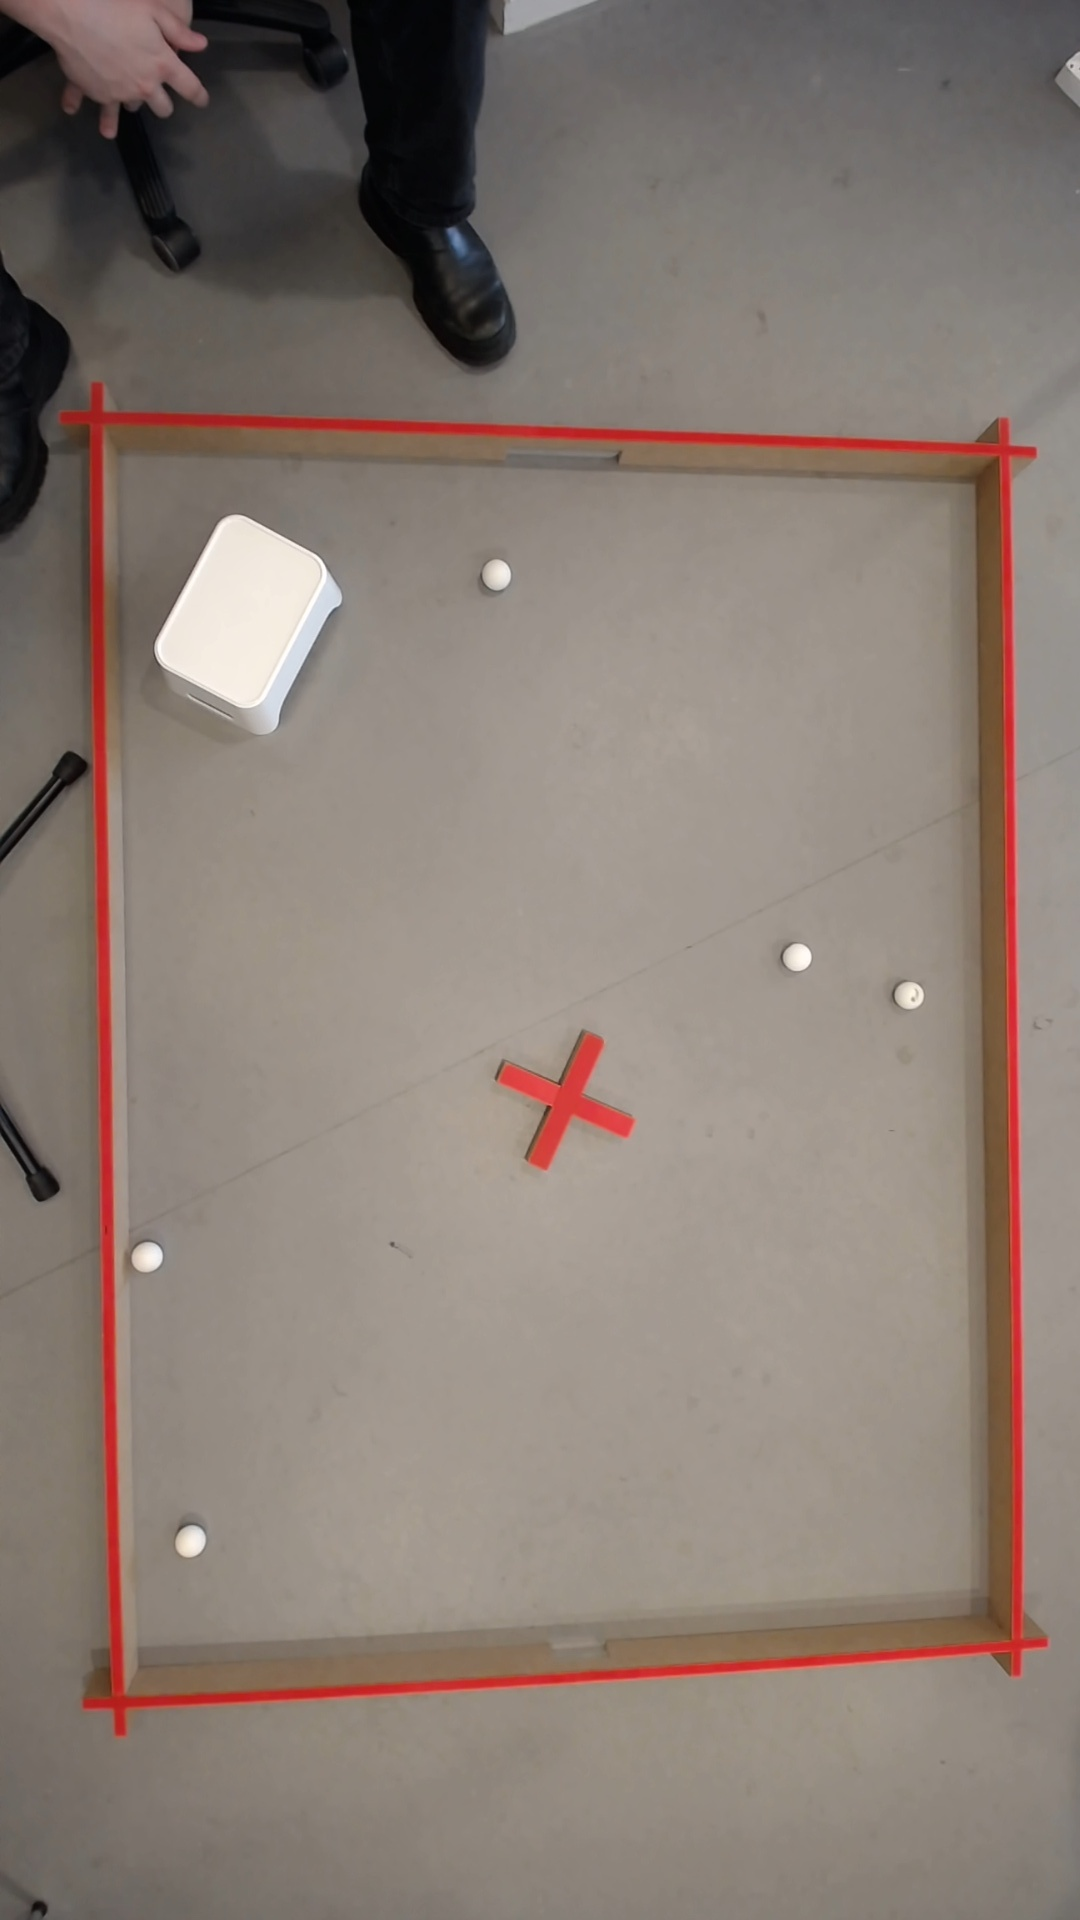balls: (144, 505, 356, 729), (127, 1236, 167, 1278), (173, 1522, 208, 1561), (781, 939, 815, 975), (893, 977, 927, 1011)
car: (481, 556, 516, 591)
